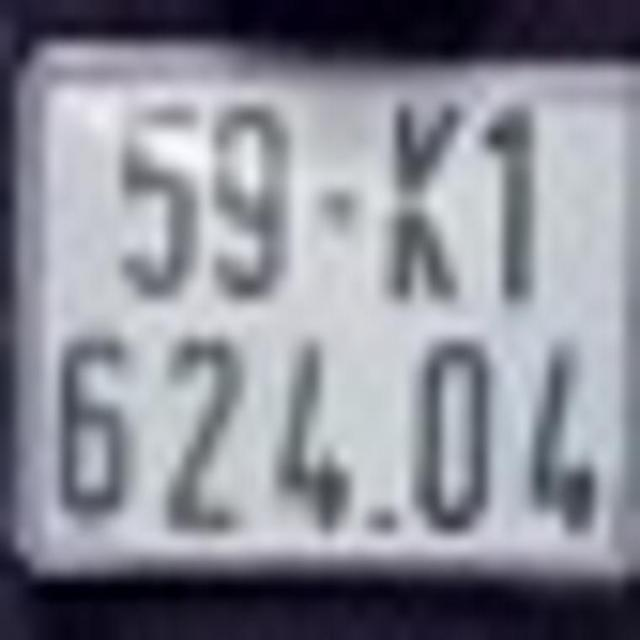0: (411, 330, 488, 533)
1: (474, 102, 547, 300)
2: (155, 328, 253, 533)
4: (516, 332, 608, 535), (275, 330, 352, 537)
5: (126, 93, 206, 310)
6: (53, 324, 134, 526)
9: (212, 95, 296, 307)
K: (381, 84, 464, 303)
